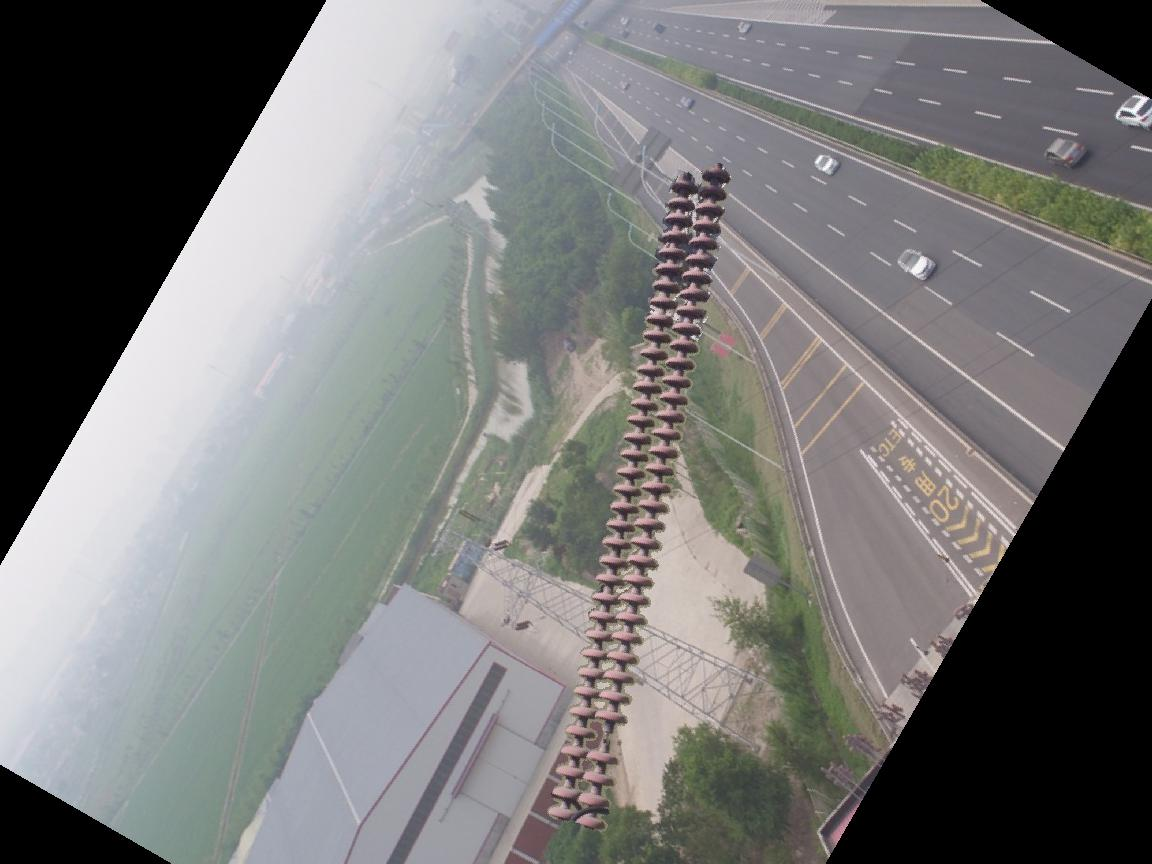insulator: (543, 158, 739, 840)
insulator_stringdrop: (584, 707, 629, 770)
